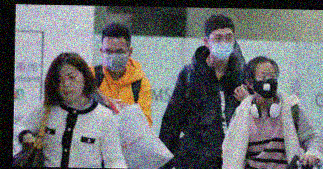with_mask: (208, 30, 235, 62), (252, 68, 279, 99), (101, 45, 129, 73)
without_mask: (54, 68, 86, 104)
